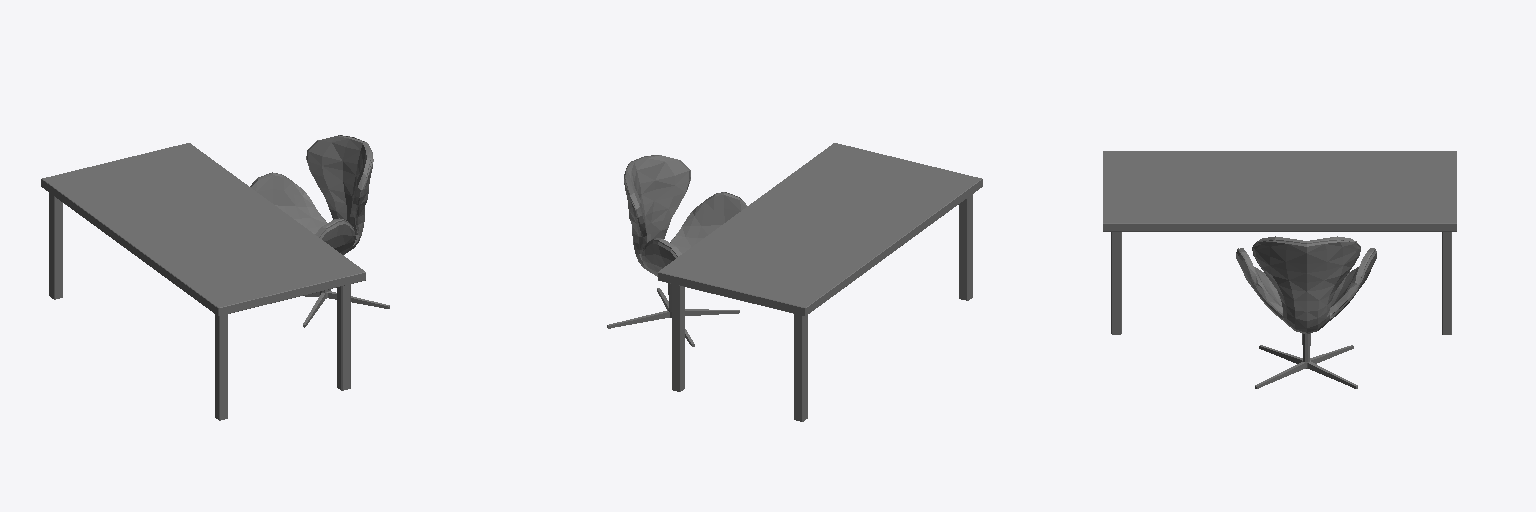
Rendered from Desk.obj.
3 renders of one model, left to right at view 1: azimuth 30°, elevation 25°; view 2: azimuth 150°, elevation 25°; view 3: azimuth 270°, elevation 25°, orthographic.
Parts seen in each view (by area): view 1: pCube6; view 2: pCube6; view 3: pCube6.
Boxes of the visible parts, box(x1,y1,x2,y2) form: pCube6: box(41, 135, 389, 420); pCube6: box(607, 143, 982, 421); pCube6: box(1103, 151, 1456, 388).
Bounding box in the file's own units: 1.36 × 0.7581 × 1.65.